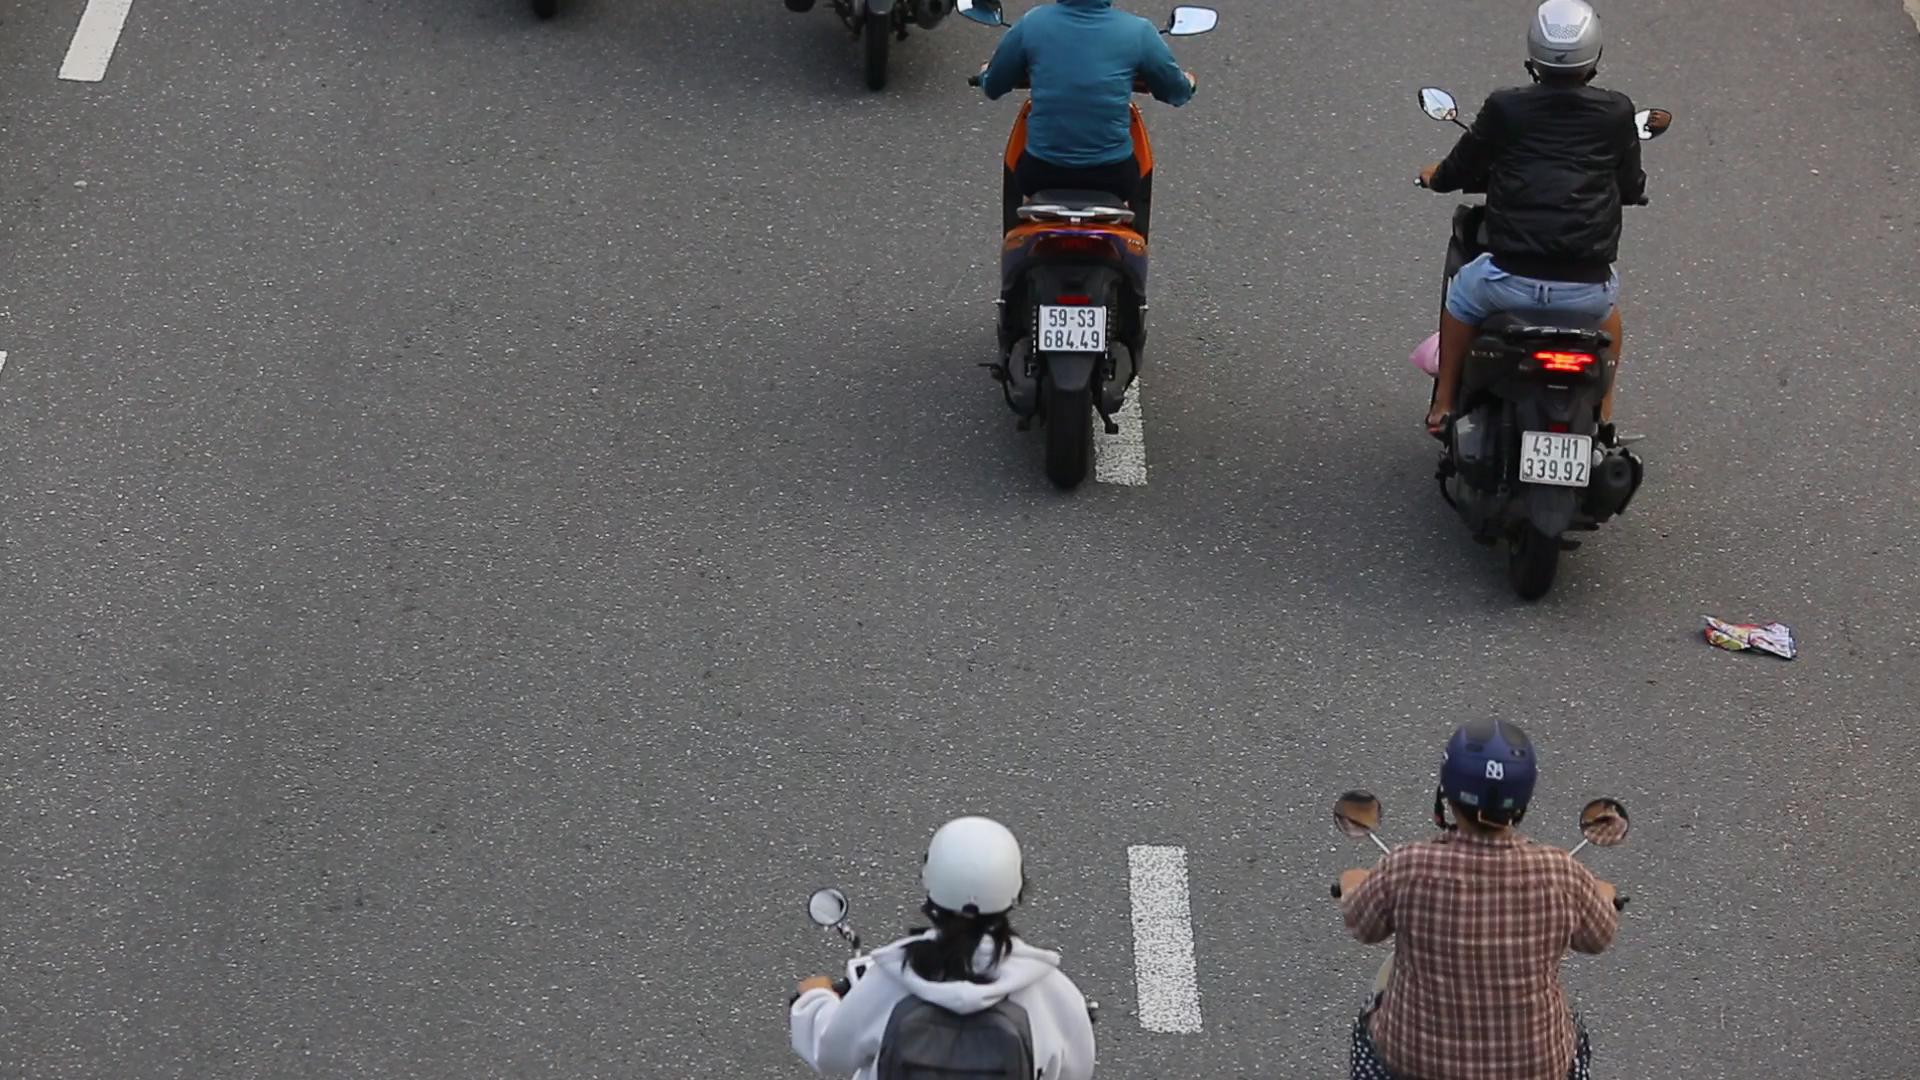motobike: (1406, 0, 1697, 625)
